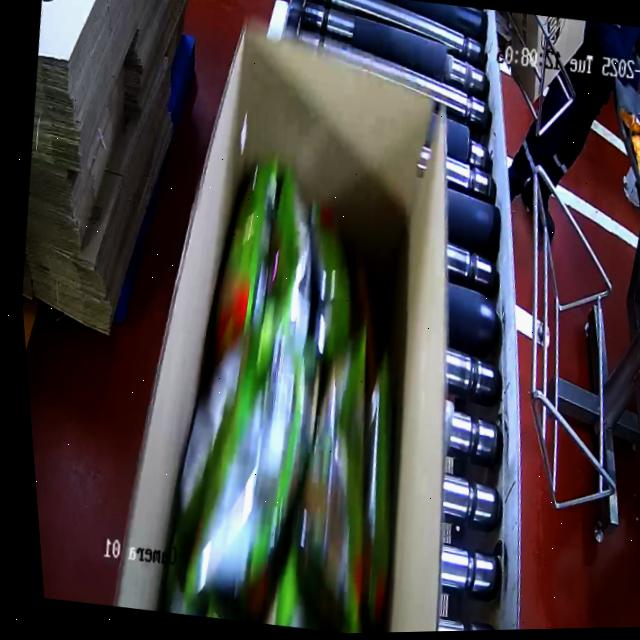YOGURT_HERB: (145, 176, 439, 637)
